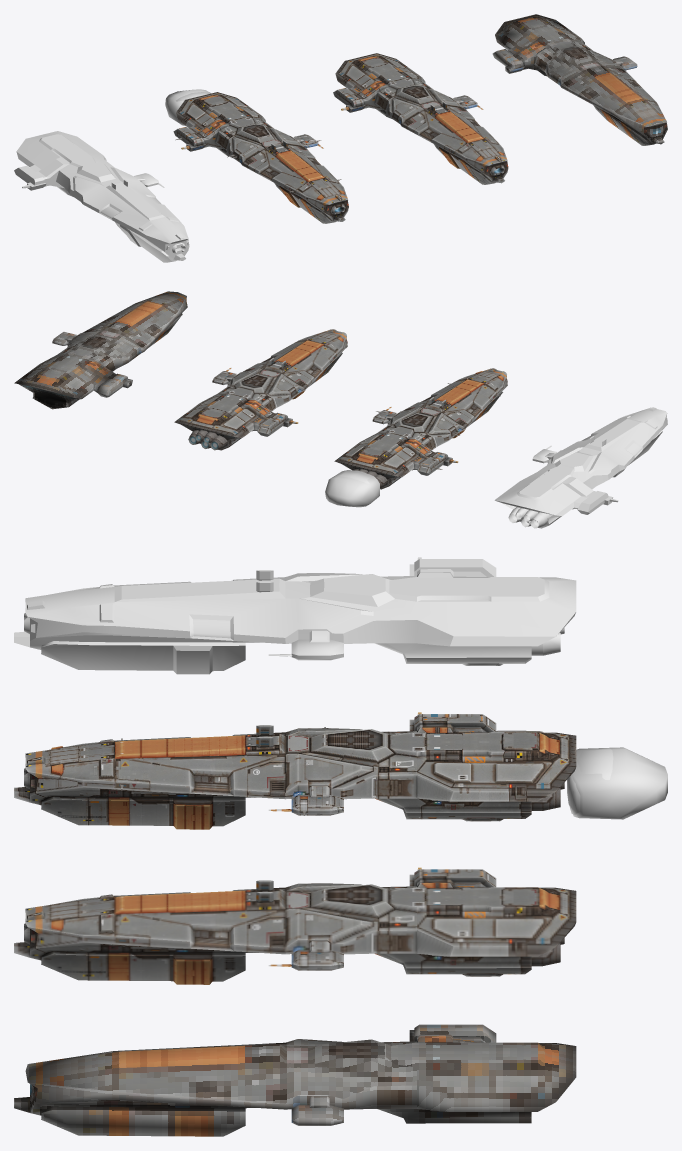
Rendered from hgn_36_ionfrigate_T1.dae.
3 renders of one model, top to bottom at view 1: azimuth 30°, elevation 25°; view 2: azimuth 150°, elevation 25°; view 3: azimuth 270°, elevation 25°, orthographic. The views are drawn at different scales.
Visible parts, largest first — view 1: MULT[Judgement]_LOD[0]_TAGS[DoScar], MULT[Judgement]_LOD[1]_TAGS[DoScar], COL[Root], MULT[Judgement]_LOD[2]_TAGS[DoScar], GLOW[EngGlow_stg3]_LOD[0]; view 2: COL[Root], MULT[Judgement]_LOD[1]_TAGS[DoScar], MULT[Judgement]_LOD[2]_TAGS[DoScar], MULT[Judgement]_LOD[0]_TAGS[DoScar], GLOW[EngGlow_stg3]_LOD[0]; view 3: MULT[Judgement]_LOD[0]_TAGS[DoScar], MULT[Judgement]_LOD[1]_TAGS[DoScar], COL[Root], MULT[Judgement]_LOD[2]_TAGS[DoScar], GLOW[EngGlow_stg3]_LOD[0], GLOW[EngGlow_stg2]_LOD[0].
Boxes of the visible parts, bbox=[...] form: MULT[Judgement]_LOD[0]_TAGS[DoScar]: bbox=[173, 92, 348, 223]; MULT[Judgement]_LOD[1]_TAGS[DoScar]: bbox=[333, 53, 508, 184]; COL[Root]: bbox=[14, 131, 189, 262]; MULT[Judgement]_LOD[2]_TAGS[DoScar]: bbox=[492, 14, 667, 145]; GLOW[EngGlow_stg3]_LOD[0]: bbox=[165, 89, 210, 125]; COL[Root]: bbox=[494, 407, 667, 528]; MULT[Judgement]_LOD[1]_TAGS[DoScar]: bbox=[174, 329, 347, 450]; MULT[Judgement]_LOD[2]_TAGS[DoScar]: bbox=[14, 291, 187, 409]; MULT[Judgement]_LOD[0]_TAGS[DoScar]: bbox=[334, 368, 507, 489]; GLOW[EngGlow_stg3]_LOD[0]: bbox=[325, 470, 379, 507]; MULT[Judgement]_LOD[0]_TAGS[DoScar]: bbox=[14, 712, 576, 829]; MULT[Judgement]_LOD[1]_TAGS[DoScar]: bbox=[14, 867, 576, 984]; COL[Root]: bbox=[14, 557, 576, 674]; MULT[Judgement]_LOD[2]_TAGS[DoScar]: bbox=[14, 1024, 576, 1136]; GLOW[EngGlow_stg3]_LOD[0]: bbox=[567, 747, 667, 819]; GLOW[EngGlow_stg2]_LOD[0]: bbox=[577, 748, 613, 779].
Bounding box in the file's own units: 366 × 29.17 × 178.
